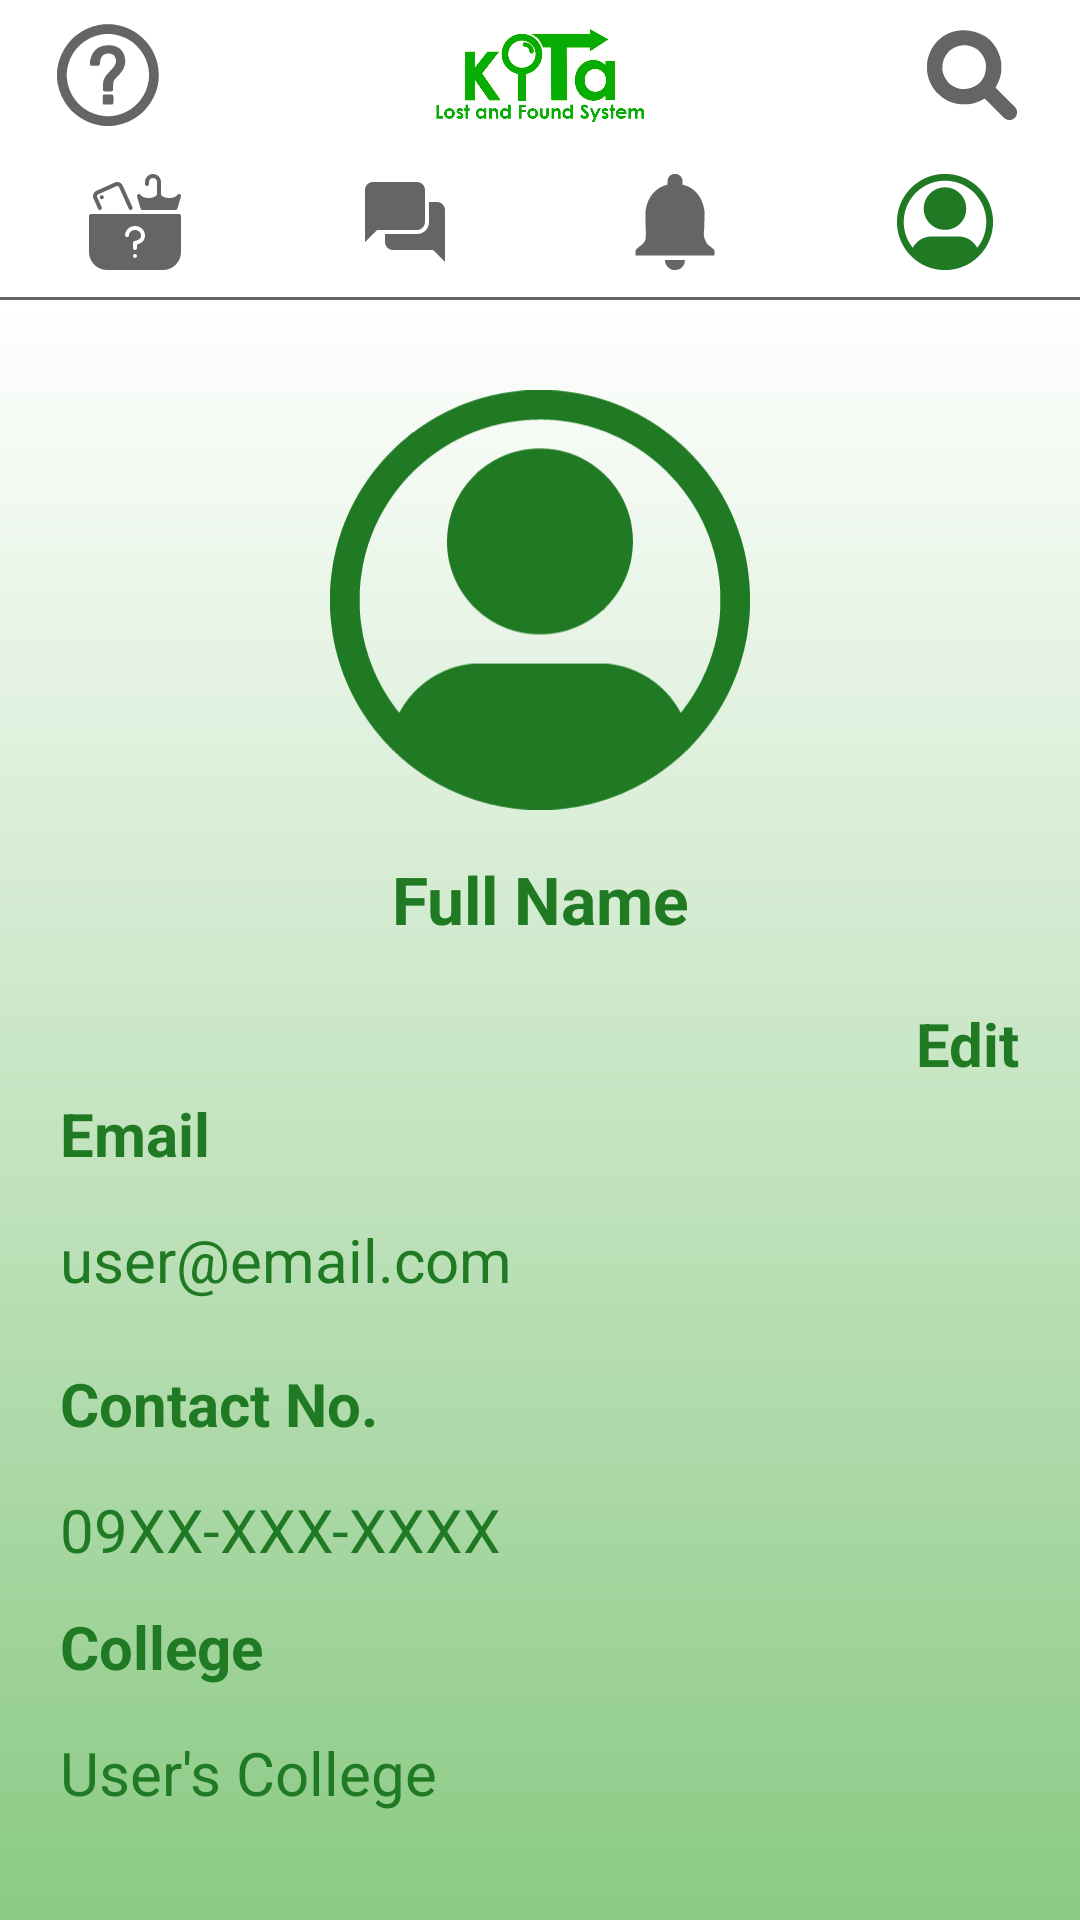

Named icons in this screenshot (1080 × 1920) and their bounding boxes, bbox=(x1, y1, x2, y2):
chat: bbox=(365, 182, 445, 262)
guide: bbox=(57, 24, 159, 126)
lost: bbox=(89, 174, 181, 270)
notification: bbox=(635, 174, 715, 270)
search: bbox=(927, 30, 1017, 120)
